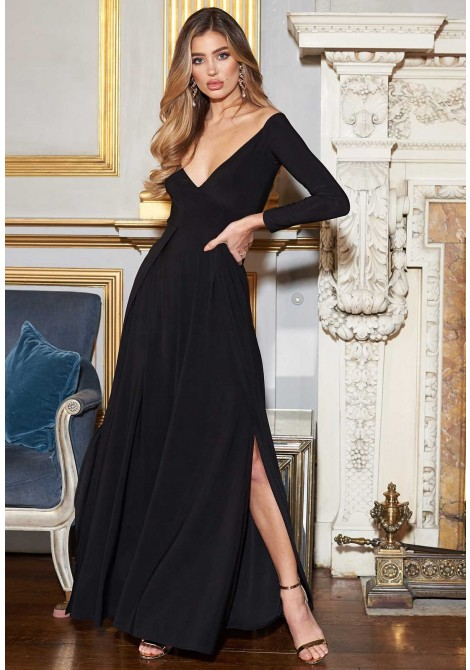S_dress: (76, 108, 365, 609)
